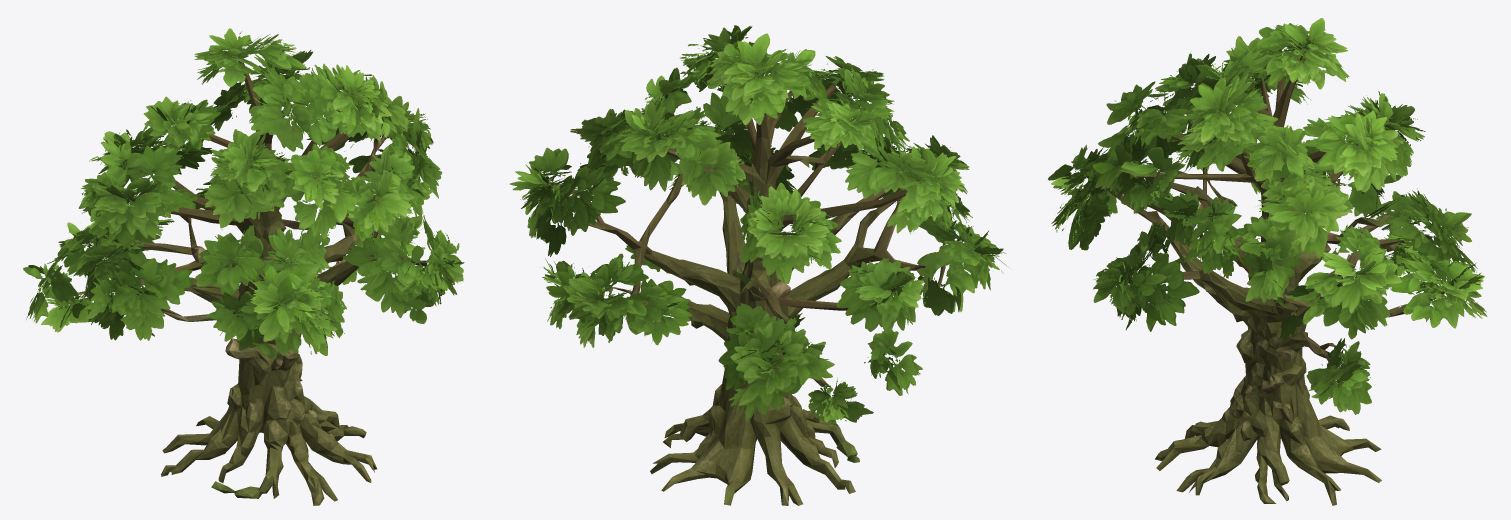
The model's file is koru_agac.glb.
The picture shows the model from 3 angles, left to right: view 1: azimuth 30°, elevation 25°; view 2: azimuth 150°, elevation 25°; view 3: azimuth 270°, elevation 25°; orthographic projection. The views are drawn at different scales.
Parts seen in each view (by area): view 1: koru_agac; view 2: koru_agac; view 3: koru_agac.
Part boxes in pixels (x1=…): koru_agac: x1=23, y1=28, x2=464, y2=505; koru_agac: x1=509, y1=25, x2=1009, y2=505; koru_agac: x1=1048, y1=18, x2=1487, y2=505.
Bounding box in the file's own units: 8.25 × 8.12 × 7.5.
2 materials, 2 textured.
